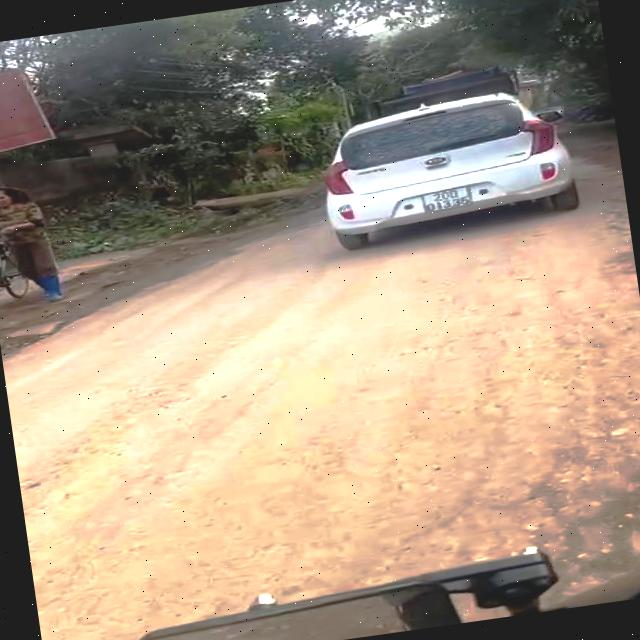pothole: (501, 448, 640, 598)
